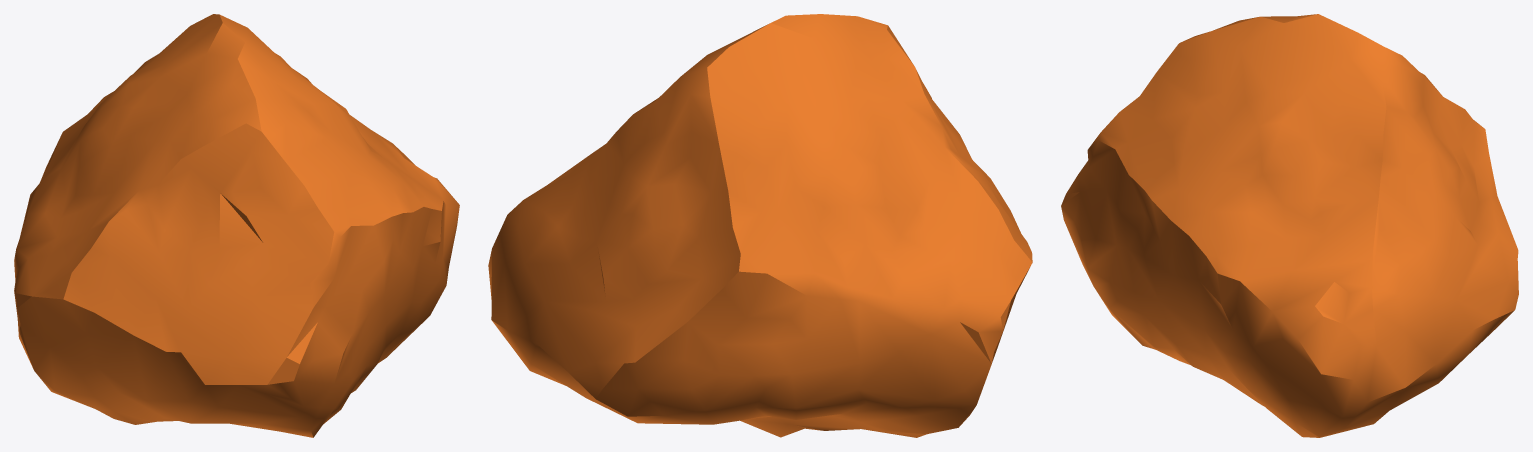
The model's file is rock.fbx.
3 renders of one model, left to right at view 1: azimuth 30°, elevation 25°; view 2: azimuth 150°, elevation 25°; view 3: azimuth 270°, elevation 25°, orthographic. The views are drawn at different scales.
Visible parts, largest first — view 1: rock.003; view 2: rock.003; view 3: rock.003.
Boxes of the visible parts, x1,y1,x2,y2 form: rock.003: [14, 14, 459, 437]; rock.003: [488, 14, 1032, 437]; rock.003: [1061, 14, 1518, 437].
Bounding box in the file's own units: 112 × 93.87 × 103.
